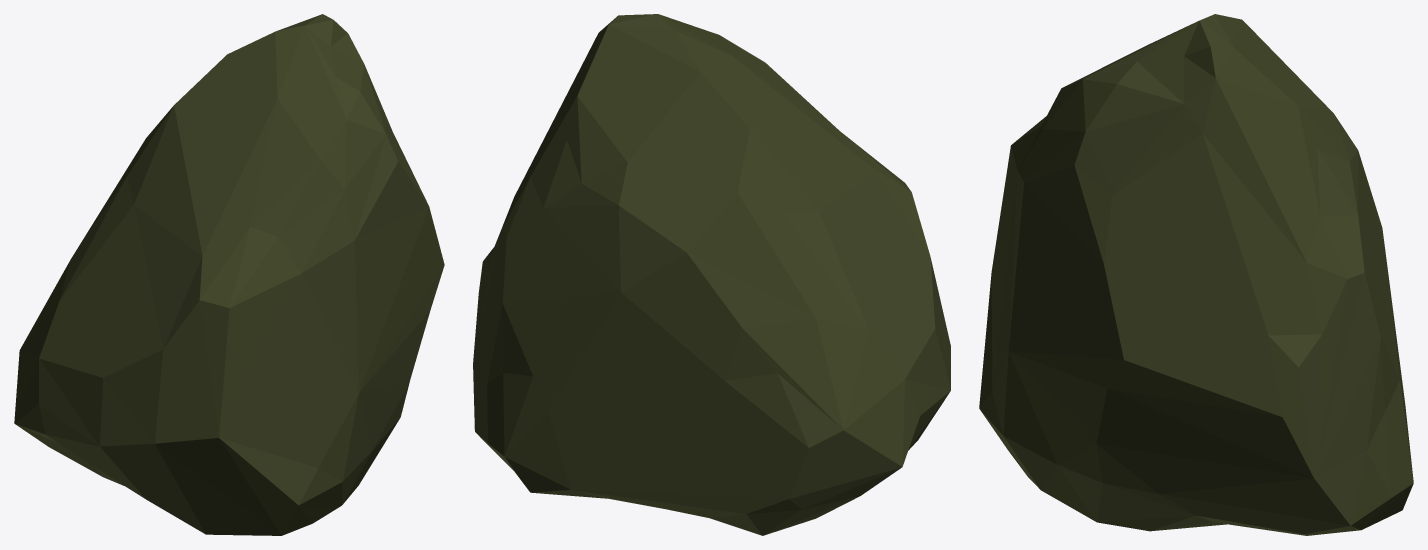
The model's file is SM_small_rock_05.fbx.
3 renders of one model, left to right at view 1: azimuth 30°, elevation 25°; view 2: azimuth 150°, elevation 25°; view 3: azimuth 270°, elevation 25°, orthographic. The views are drawn at different scales.
Parts seen in each view (by area): view 1: small_rock_05; view 2: small_rock_05; view 3: small_rock_05.
Part boxes in pixels (x1=…): small_rock_05: x1=14, y1=14, x2=444, y2=535; small_rock_05: x1=473, y1=14, x2=950, y2=535; small_rock_05: x1=979, y1=14, x2=1413, y2=535.
Size of the model in its own units: 10.95 by 11.24 by 8.91.
